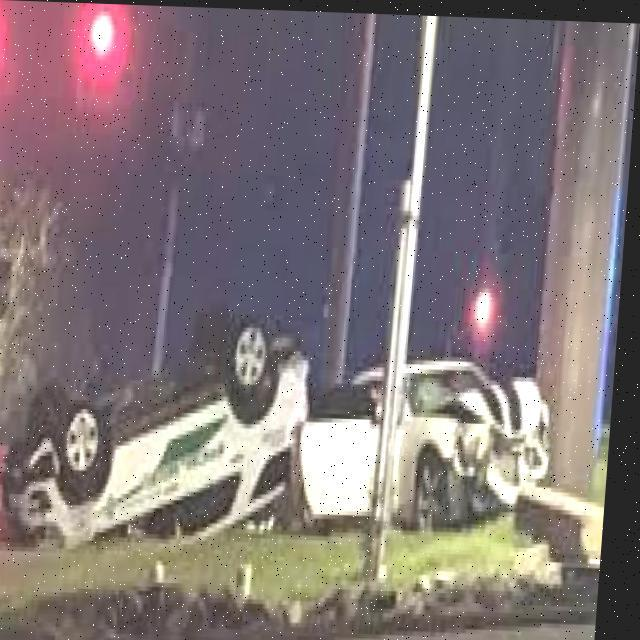multiple_accident: (0, 282, 563, 567)
